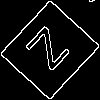Z: (25, 25, 80, 79)
